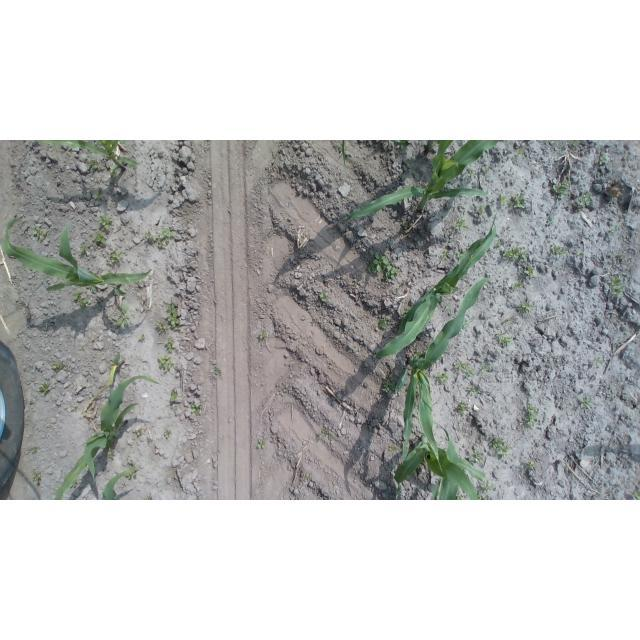Maize: (388, 276, 496, 472), (373, 214, 502, 362), (51, 356, 170, 500), (341, 140, 515, 233), (3, 214, 160, 299), (394, 437, 495, 500), (41, 141, 149, 176), (90, 466, 146, 500)
Weeds: (365, 250, 401, 282), (156, 304, 183, 335), (143, 228, 177, 249), (603, 270, 623, 298), (497, 192, 528, 210), (504, 247, 533, 264), (490, 436, 510, 459), (522, 405, 541, 428), (26, 224, 49, 242), (116, 304, 133, 328), (156, 356, 174, 377), (28, 467, 45, 487), (468, 446, 485, 466), (549, 243, 570, 259), (552, 180, 570, 198), (495, 330, 514, 347), (98, 215, 115, 234), (105, 436, 118, 460), (93, 187, 111, 204), (72, 292, 90, 309), (163, 337, 179, 356), (317, 429, 336, 443), (51, 358, 67, 374), (383, 377, 398, 394), (578, 191, 593, 208), (86, 157, 103, 172), (189, 400, 203, 418), (170, 387, 183, 405), (452, 215, 468, 229), (92, 234, 108, 248), (473, 201, 487, 216), (126, 465, 139, 481), (111, 351, 122, 369), (435, 371, 449, 385), (109, 250, 123, 264), (523, 300, 535, 316), (317, 292, 331, 305), (597, 152, 611, 165), (40, 382, 53, 396), (580, 397, 592, 412), (134, 428, 147, 441), (386, 442, 398, 456), (468, 385, 483, 396), (378, 314, 387, 332), (452, 360, 468, 370), (161, 428, 173, 441), (351, 270, 364, 282), (479, 363, 491, 375), (474, 492, 492, 500), (457, 402, 470, 413), (77, 245, 90, 256), (527, 459, 536, 474), (482, 483, 494, 494), (466, 166, 477, 178), (524, 265, 534, 278), (495, 237, 508, 247), (570, 140, 583, 150), (29, 447, 43, 456), (394, 141, 408, 150), (509, 280, 523, 289), (109, 165, 119, 177), (257, 438, 266, 451), (214, 364, 222, 378), (593, 356, 603, 367), (143, 491, 155, 500), (464, 317, 473, 329), (512, 147, 524, 156), (632, 488, 640, 501), (278, 388, 288, 398), (401, 220, 411, 230), (258, 331, 267, 342), (545, 216, 554, 227), (139, 333, 148, 344), (70, 476, 78, 488), (619, 252, 628, 262), (439, 249, 449, 258), (70, 404, 79, 413), (455, 252, 466, 259), (467, 371, 474, 380), (610, 227, 618, 234), (578, 252, 586, 259)
